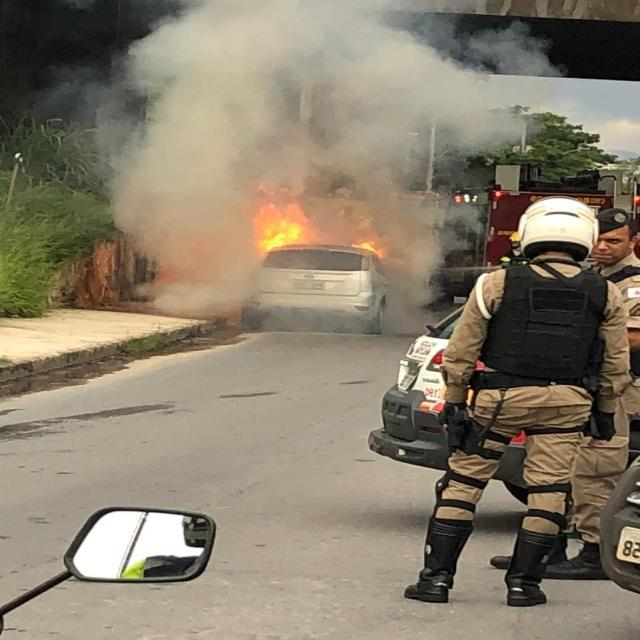Fire: (253, 179, 313, 253), (353, 240, 379, 255)
